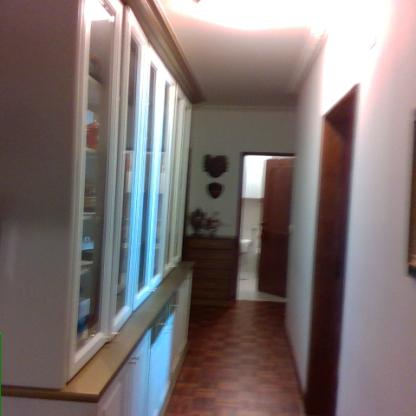semi: (234, 144, 302, 318)
